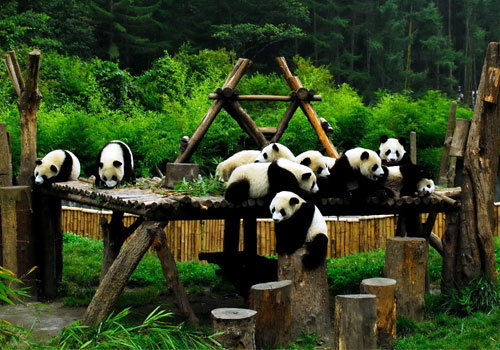panda: (268, 189, 331, 271), (231, 156, 320, 203), (89, 129, 139, 201), (331, 144, 384, 202), (377, 134, 416, 201), (28, 140, 86, 185), (291, 148, 342, 183), (404, 165, 445, 201)
